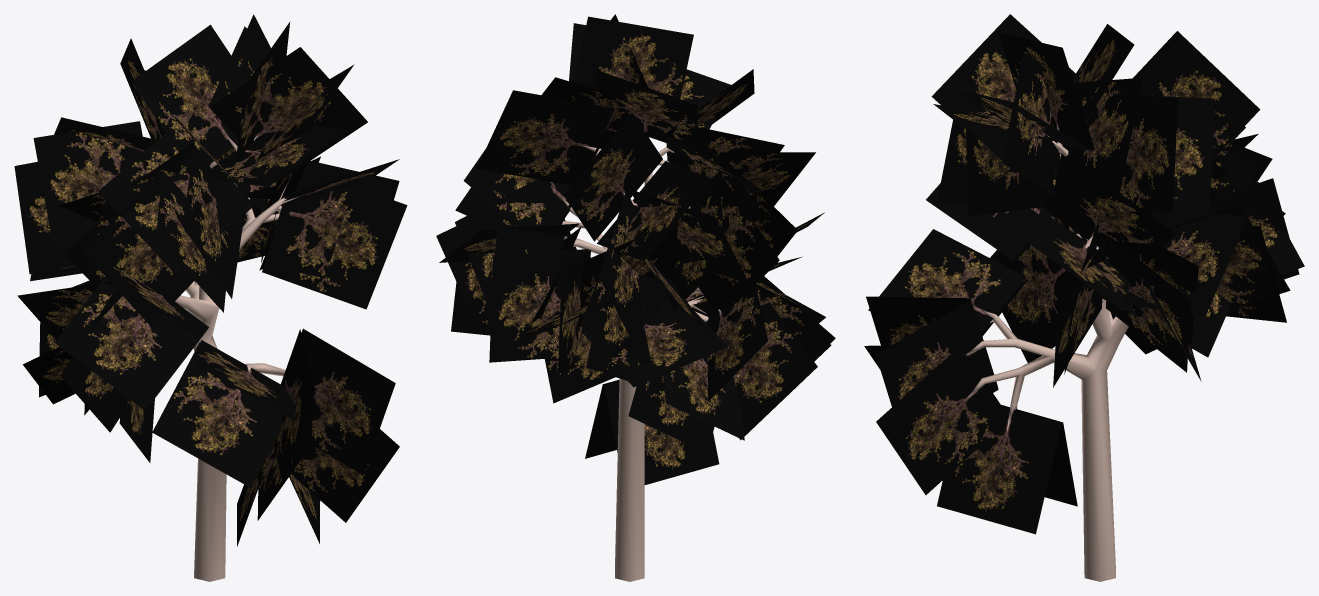
The model's file is tree.glb.
The picture shows the model from 3 angles, left to right: view 1: azimuth 30°, elevation 25°; view 2: azimuth 150°, elevation 25°; view 3: azimuth 270°, elevation 25°; orthographic projection. The views are drawn at different scales.
Bounding box in the file's own units: 4.49 × 6.44 × 4.62.
2 materials, 1 textured.
